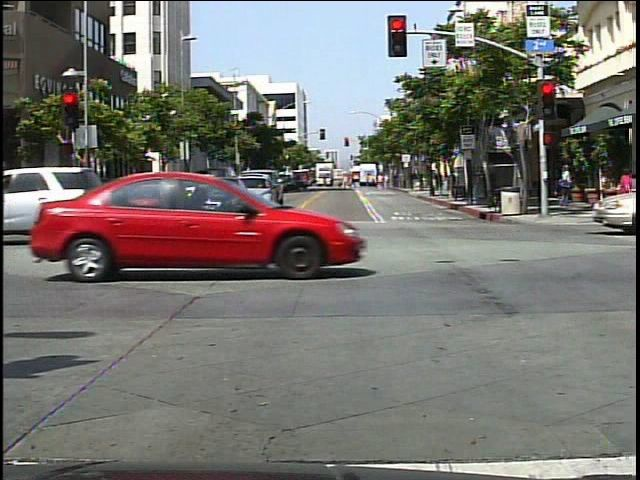person: (59, 171, 91, 235), (555, 162, 578, 213), (614, 166, 639, 199)
